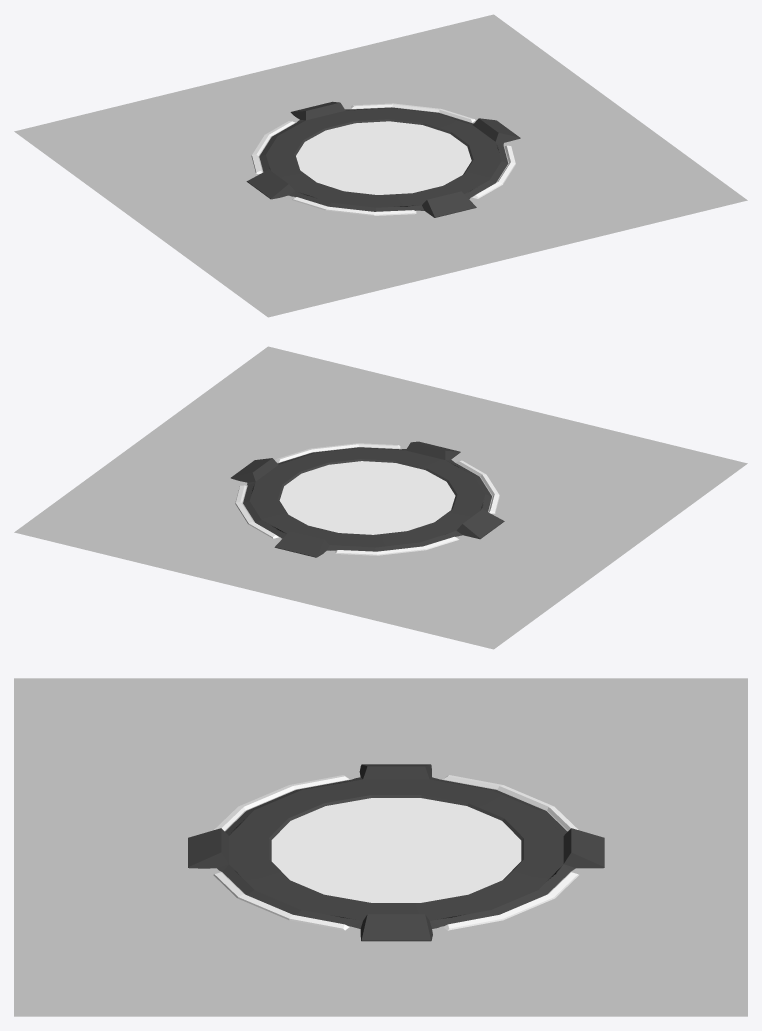
Rendered from SPW0110015.FBX.
3 renders of one model, top to bottom at view 1: azimuth 30°, elevation 25°; view 2: azimuth 150°, elevation 25°; view 3: azimuth 270°, elevation 25°, orthographic. The views are drawn at different scales.
Visible parts, largest first — view 1: smSPW0110015; view 2: smSPW0110015; view 3: smSPW0110015.
Boxes of the visible parts, x1=… form: smSPW0110015: x1=14, y1=14, x2=747, y2=317; smSPW0110015: x1=14, y1=346, x2=747, y2=649; smSPW0110015: x1=14, y1=678, x2=747, y2=1016.
Size of the model in its own units: 300 by 21.52 by 276.
Materials: 2 (1 with a texture image).
